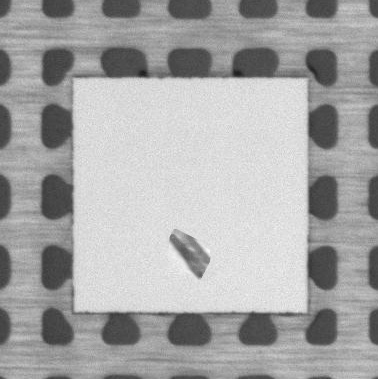DIE_INK: (163, 224, 214, 284)
